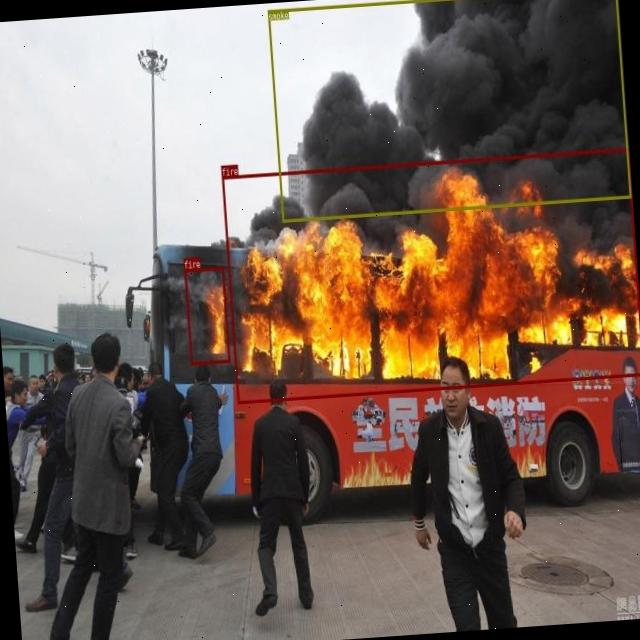fire: (220, 147, 640, 403), (184, 266, 230, 364)
smoke: (267, 0, 630, 221)
